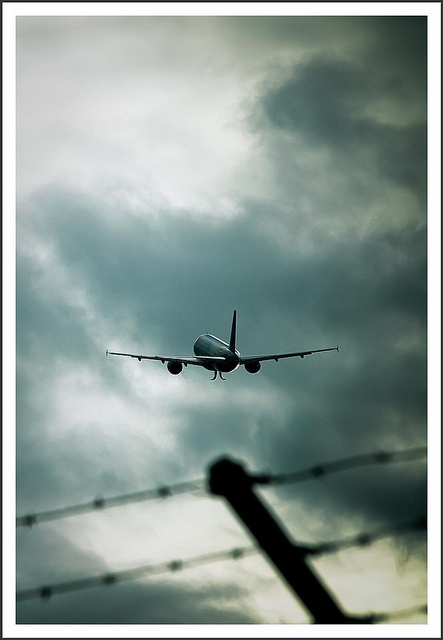airplane: (134, 307, 443, 640)
